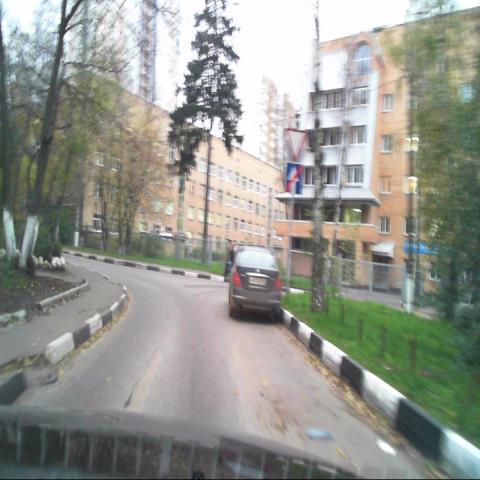5_6: (286, 165, 302, 194)
